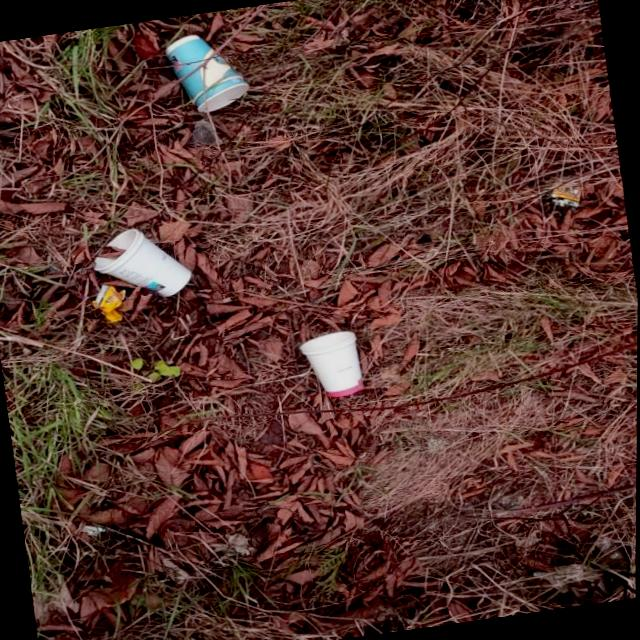Cup: (84, 218, 198, 308), (159, 25, 253, 120), (297, 327, 368, 403)
